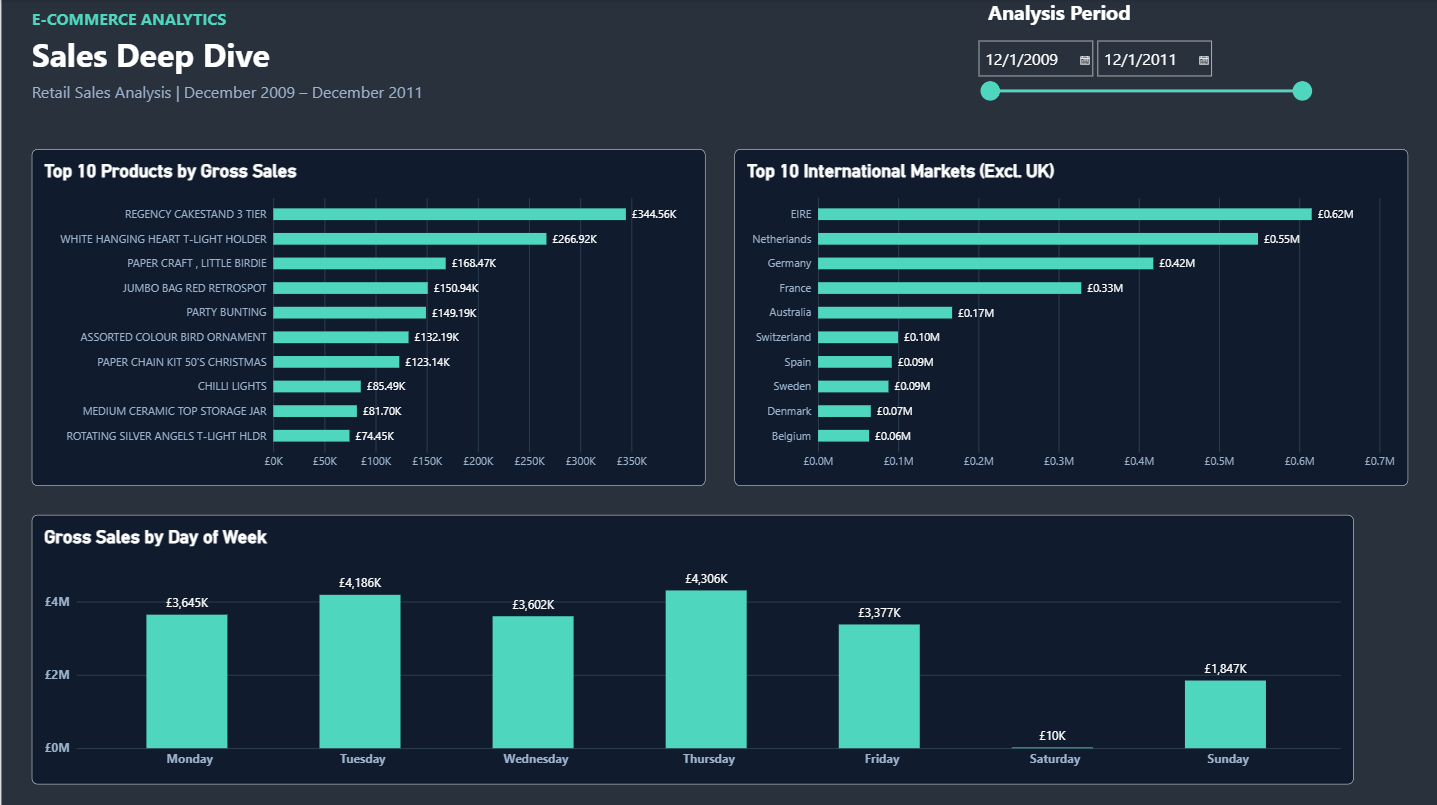

The page's visual inventory and layout, read from the dashboard file:
{"tool":"powerbi","page":{"name":"Sales Deep Dive","canvas":[1920,1080],"ordinal":1},"visuals":[{"type":"clusteredBarChart","title":"Top 10 International Markets (Excl. UK)","fields":{"Category":["Retail_Combined.Country"],"Y":["Retail_Combined.Net Sales"]},"box":[980,200,900,450],"z":0},{"type":"clusteredBarChart","title":"Top 10 Products by Gross Sales","fields":{"Category":["Retail_Combined.Description"],"Y":["Retail_Combined.Gross Sales"]},"box":[40,200,900,450],"z":1000},{"type":"clusteredColumnChart","title":"Gross Sales by Day of Week","fields":{"Category":["Retail_Combined.DayName"],"Y":["Retail_Combined.Gross Sales"]},"box":[40,690,1766,360],"z":2000},{"type":"textbox","box":[40,12,607.5,65],"z":3000},{"type":"textbox","box":[40,45,775,80],"z":4000},{"type":"textbox","box":[40,110,680,50],"z":5000},{"type":"slicer","fields":{"Values":["Retail_Combined.MonthStart"]},"box":[1296.9,50,456.5,90.9],"z":6000},{"type":"textbox","box":[1317,0,252.1,50],"z":7000}]}

Visuals, with their boxes in screenshot pixels (x1, y1, x2, y2), scaled from the page's 1920x1080 canvas onto the 1437x805 screenshot:
"Top 10 International Markets (Excl. UK)" clusteredBarChart: (733, 149, 1407, 484)
"Top 10 Products by Gross Sales" clusteredBarChart: (30, 149, 704, 484)
"Gross Sales by Day of Week" clusteredColumnChart: (30, 514, 1352, 783)
textbox: (30, 9, 485, 57)
textbox: (30, 34, 610, 93)
textbox: (30, 82, 539, 119)
slicer - Retail_Combined.MonthStart: (971, 37, 1312, 105)
textbox: (986, 0, 1174, 37)
